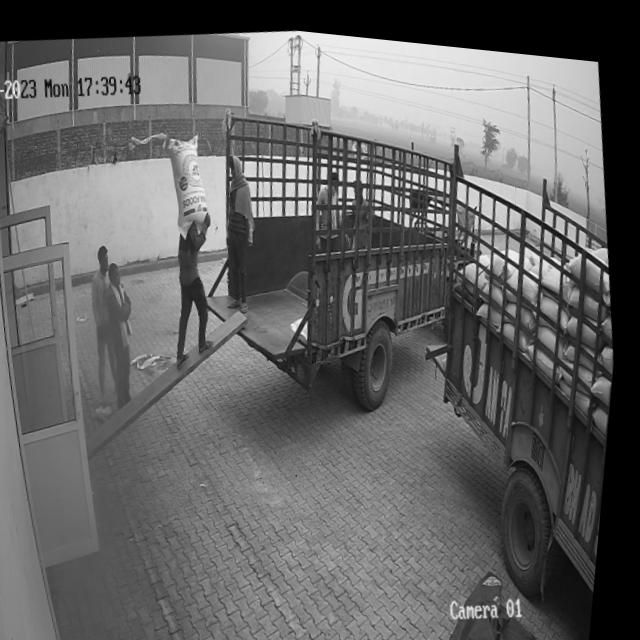sack: (162, 128, 219, 237)
